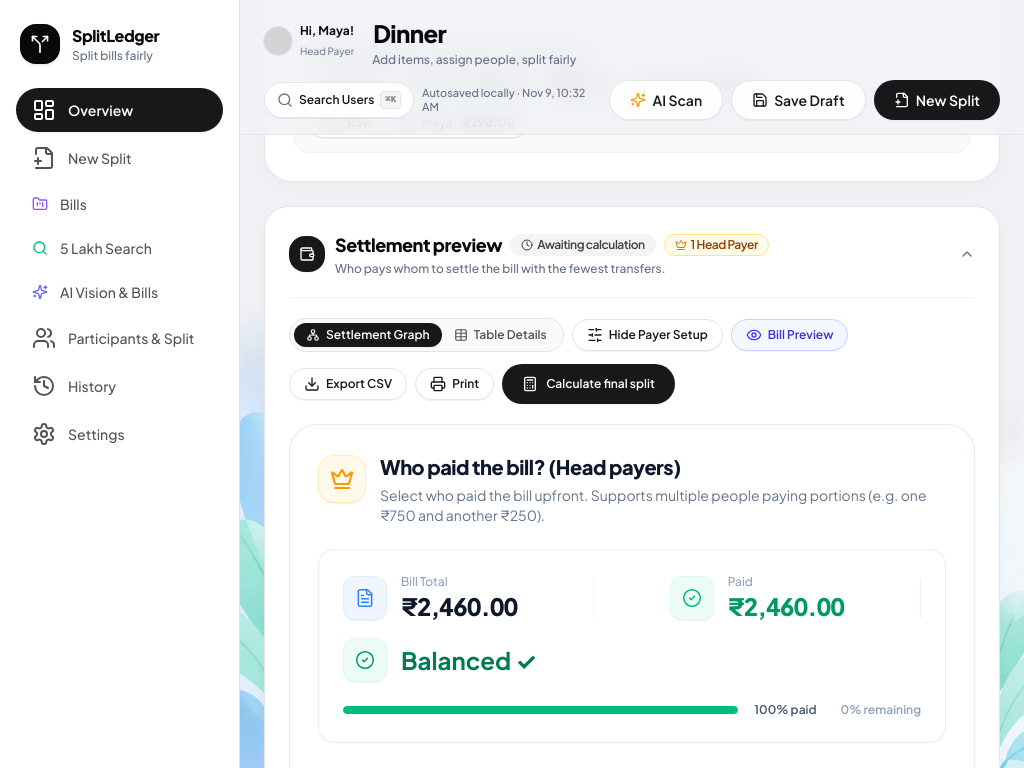
Scenario: dashboard › calculates the final split and shows settlement transfers
(page scrolled)
Expected: the field showing "Dinner" is shown, left=366, top=14, right=814, bottom=52
What coordinates should you click on to do the following:
click the button "Calculate final split"
I would click on:
 (588, 384)
Its box is left=502, top=364, right=675, bottom=404.
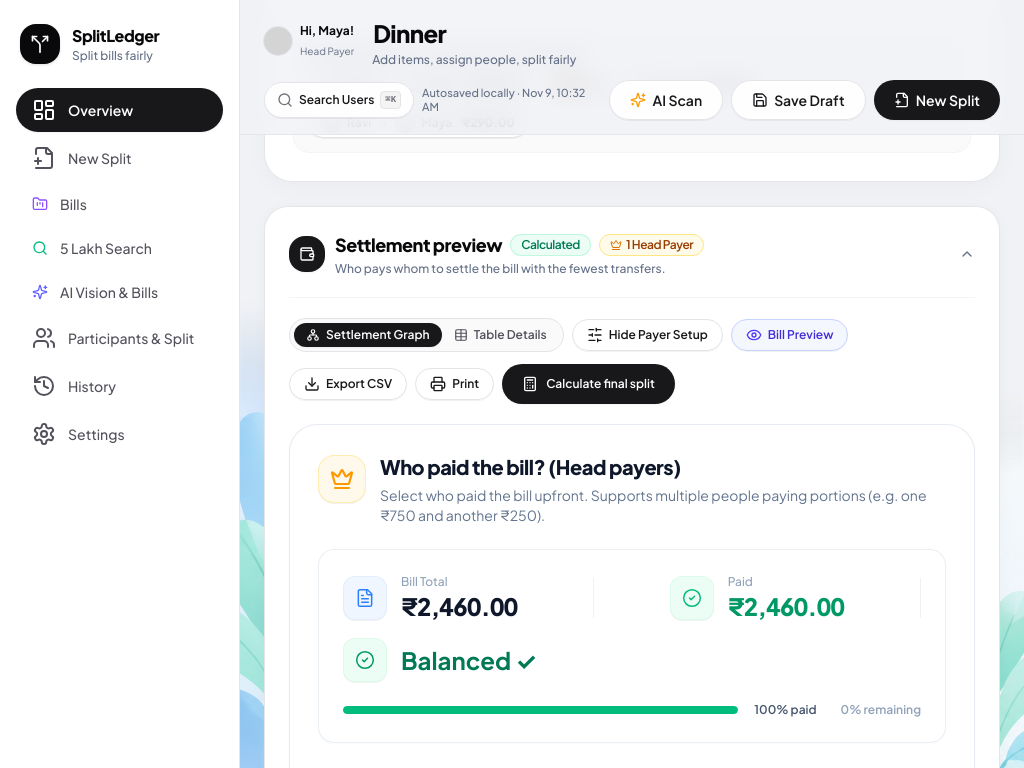
Expected: the text "Calculated" is shown, left=510, top=234, right=591, bottom=256
